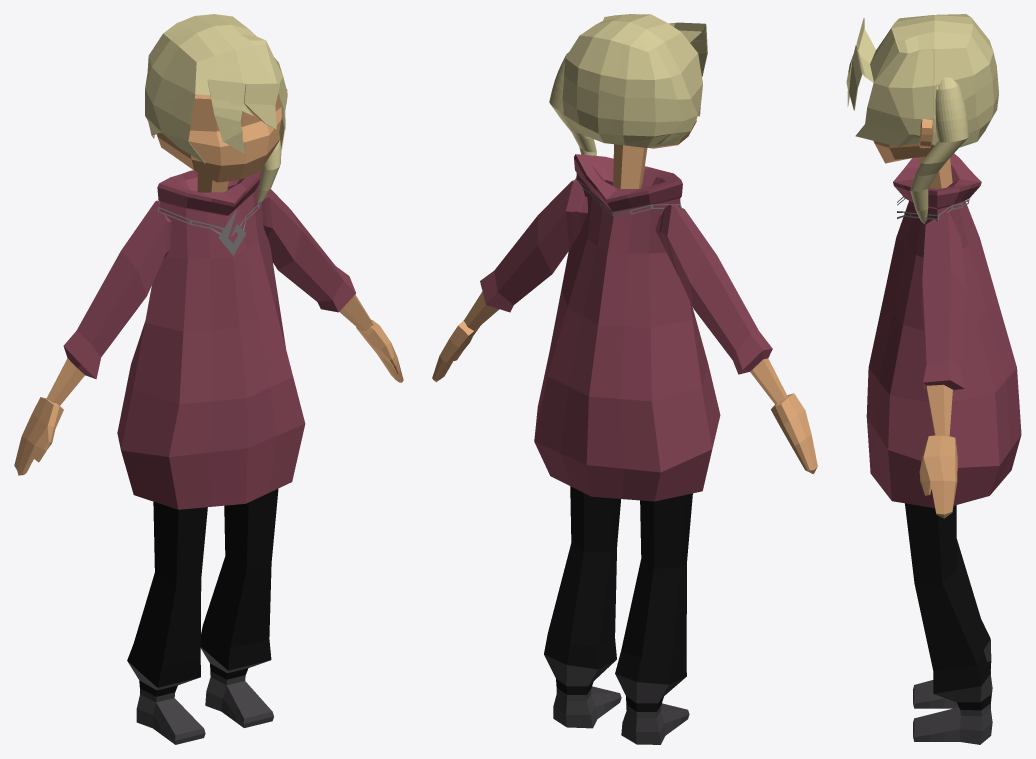
File: Klavier_Rough (3).fbx
The picture shows the model from 3 angles, left to right: view 1: azimuth 30°, elevation 25°; view 2: azimuth 150°, elevation 25°; view 3: azimuth 270°, elevation 25°; orthographic projection.
Parts seen in each view (by area): view 1: Body.002, Legs.002, Arms.002, Hair_Klavier, Head.002, Necklace; view 2: Body.002, Legs.002, Arms.002, Hair_Klavier, Neck.002; view 3: Body.002, Hair_Klavier, Legs.002, Arms.002, Head.002, Neck.002, EarLeft.
Part boxes in pixels (<box>): Body.002: <box>117,169,305,509</box>; Legs.002: <box>127,488,278,744</box>; Arms.002: <box>14,189,403,475</box>; Hair_Klavier: <box>145,14,287,204</box>; Head.002: <box>156,94,281,182</box>; Necklace: <box>157,196,261,255</box>; Body.002: <box>534,154,720,501</box>; Legs.002: <box>544,486,692,744</box>; Arms.002: <box>432,179,817,474</box>; Hair_Klavier: <box>549,14,707,155</box>; Neck.002: <box>613,144,647,188</box>; Body.002: <box>866,153,1021,508</box>; Hair_Klavier: <box>846,14,998,224</box>; Legs.002: <box>905,503,992,744</box>; Arms.002: <box>919,210,966,518</box>; Head.002: <box>873,141,934,163</box>; Neck.002: <box>917,156,952,189</box>; EarLeft: <box>919,119,933,148</box>.
Bounding box in the file's own units: 212 × 371 × 84.36.
